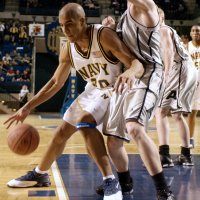basketball: (7, 124, 40, 155)
